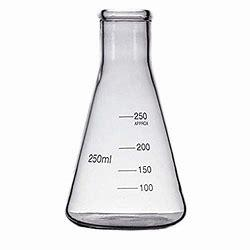Titrarion: (43, 8, 193, 232)
